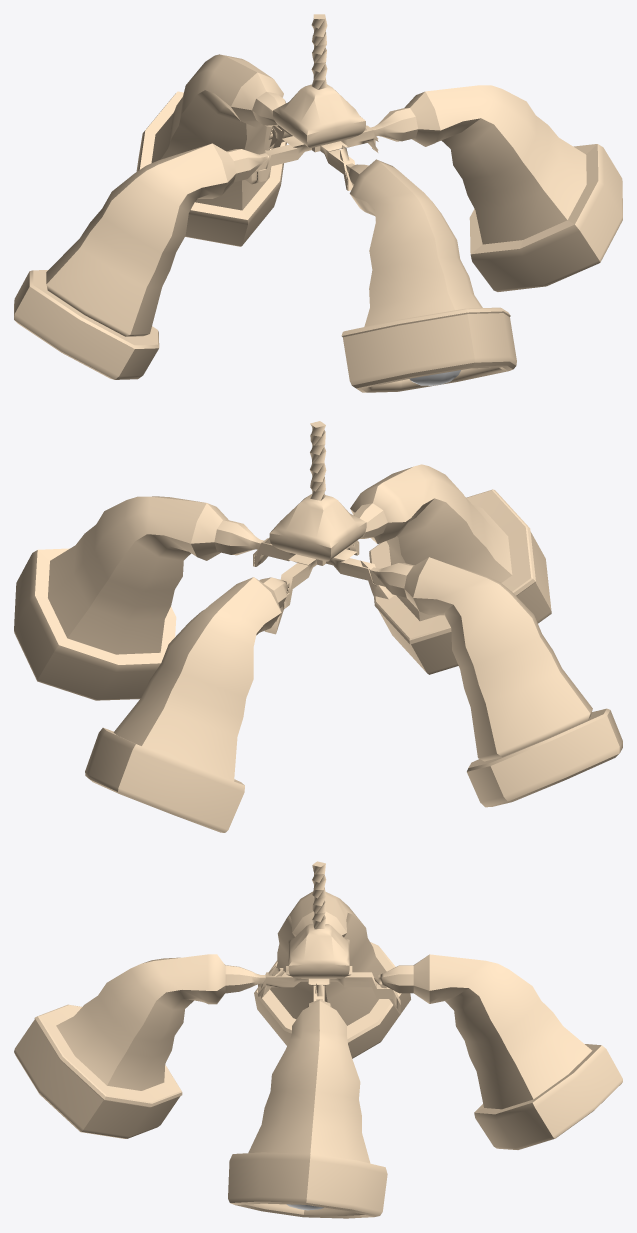
The model's file is Lamp.fbx.
The picture shows the model from 3 angles, top to bottom: view 1: azimuth 30°, elevation 25°; view 2: azimuth 150°, elevation 25°; view 3: azimuth 270°, elevation 25°; orthographic projection. The views are drawn at different scales.
Parts seen in each view (by area): view 1: pCube1; view 2: pCube1; view 3: pCube1.
Part boxes in pixels (x1,y1,x2,y2): pCube1: [14, 14, 622, 392]; pCube1: [14, 421, 622, 832]; pCube1: [14, 861, 622, 1218].
Size of the model in its own units: 101 by 50.77 by 100.
